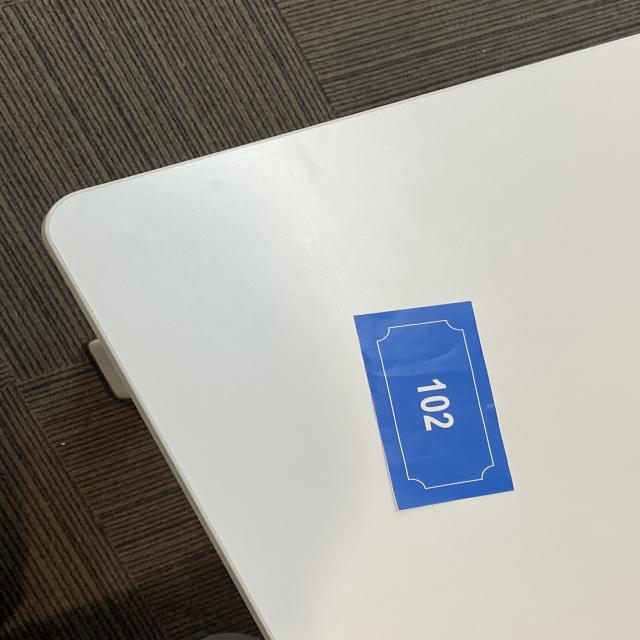Card: (341, 280, 539, 524)
